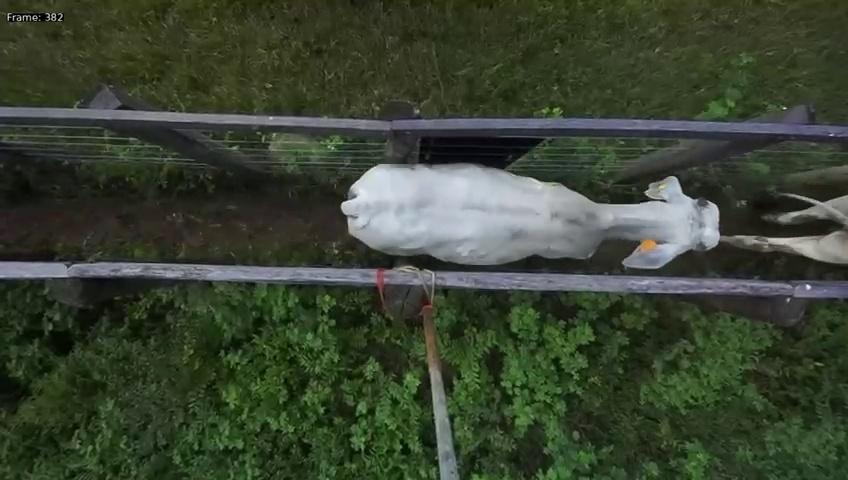cattle: (340, 122, 721, 273)
